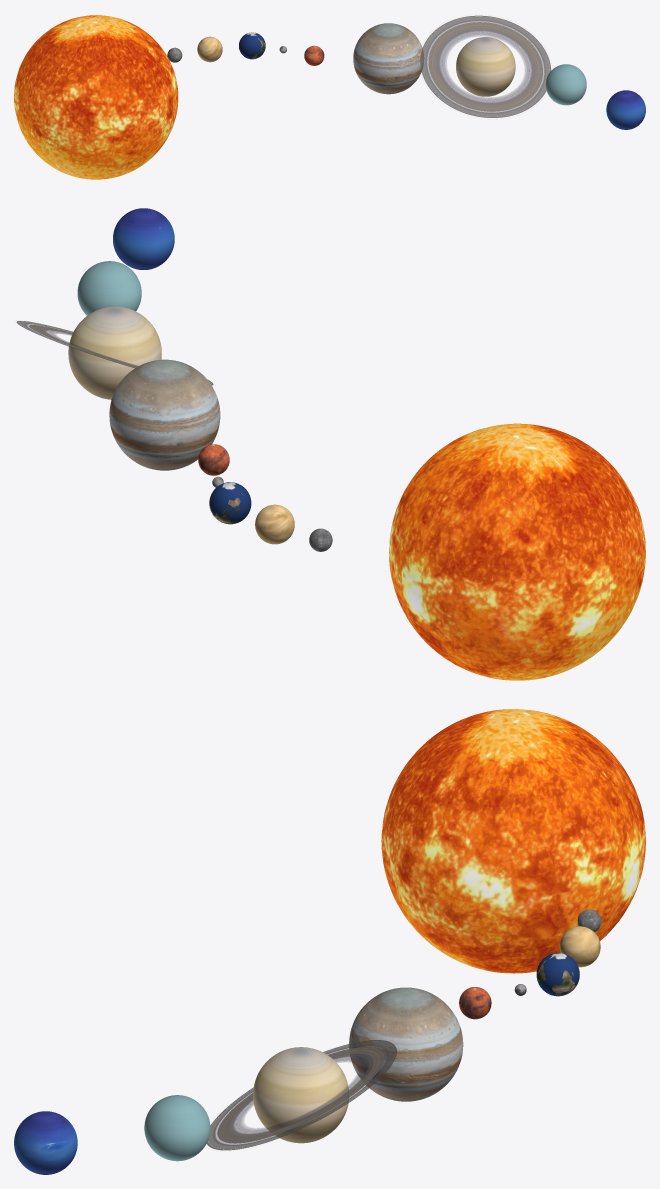
3 views of the same model, one above another, from view 1: azimuth 30°, elevation 25°; view 2: azimuth 150°, elevation 25°; view 3: azimuth 270°, elevation 25° (orthographic). The views are drawn at different scales.
Parts seen in each view (by area): view 1: sun, saturn_ring, jupiter, saturn, uranus, neptune, earth, venus, mars; view 2: sun, jupiter, saturn, neptune, uranus, earth, venus, saturn_ring, mars; view 3: sun, jupiter, saturn, saturn_ring, uranus, neptune, earth, venus, mars.
Boxes of the visible parts, x1,y1,x2,y2 form: sun: (14, 15, 178, 179); saturn_ring: (420, 15, 551, 117); jupiter: (353, 23, 423, 94); saturn: (456, 37, 515, 96); uranus: (545, 64, 586, 105); neptune: (606, 90, 645, 129); earth: (239, 32, 265, 59); venus: (197, 36, 222, 62); mars: (304, 45, 324, 65); sun: (389, 423, 645, 680); jupiter: (109, 359, 220, 470); saturn: (68, 306, 161, 399); neptune: (113, 208, 174, 269); uranus: (77, 261, 141, 315); earth: (209, 482, 251, 524); venus: (255, 504, 294, 544); saturn_ring: (16, 320, 213, 385); mars: (198, 444, 229, 475); sun: (381, 709, 645, 973); jupiter: (349, 987, 463, 1101); saturn: (253, 1047, 348, 1143); saturn_ring: (206, 1040, 396, 1150); uranus: (144, 1095, 210, 1161); neptune: (14, 1111, 77, 1174); earth: (536, 953, 579, 996); venus: (559, 926, 600, 967); mars: (459, 987, 491, 1019).
Size of the model in its own units: 14.61 by 4.4 by 10.51.
11 materials, 11 textured.
